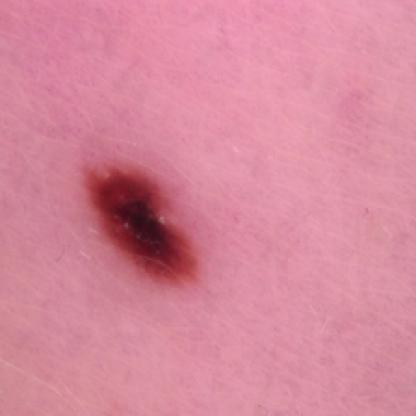benign: (76, 143, 229, 306)
